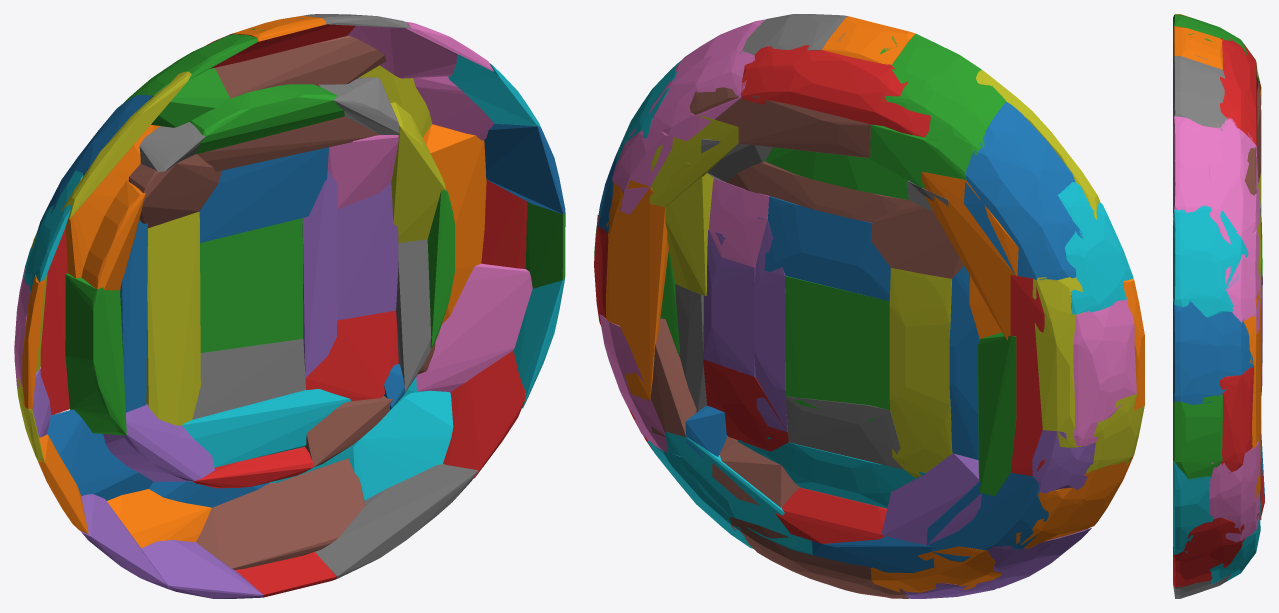
Rendered from Ceiling_Light_04_cvx.obj.
3 views of the same model, side by side, from view 1: azimuth 30°, elevation 25°; view 2: azimuth 150°, elevation 25°; view 3: azimuth 270°, elevation 25° (orthographic). The views are drawn at different scales.
Visible parts, largest first — view 1: scenes/apartment_0000_coacd/output/Unknown/Ceiling_Kitchen_Light; view 2: scenes/apartment_0000_coacd/output/Unknown/Ceiling_Kitchen_Light; view 3: scenes/apartment_0000_coacd/output/Unknown/Ceiling_Kitchen_Light.
Boxes of the visible parts, <box> form: scenes/apartment_0000_coacd/output/Unknown/Ceiling_Kitchen_Light: <box>14,14,565,598</box>; scenes/apartment_0000_coacd/output/Unknown/Ceiling_Kitchen_Light: <box>594,14,1144,598</box>; scenes/apartment_0000_coacd/output/Unknown/Ceiling_Kitchen_Light: <box>1173,14,1264,598</box>.
Size of the model in its own units: 0.1653 by 0.1653 by 0.0262.
